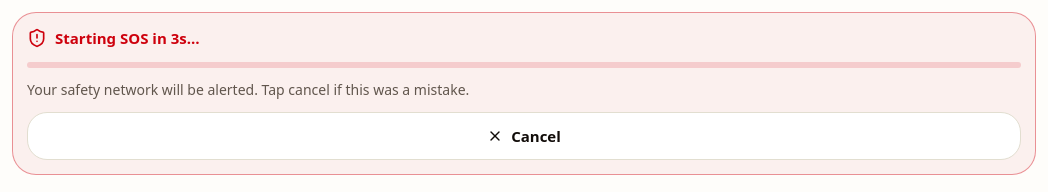
Test: autoStart begins the cancellable countdown by itself, once
expect the text "Starting SOS in 3s…" is shown: met, box [27,28,200,48]
Click the button "Cancel" at (524, 136), box [27,112,1021,160]
Wait 5000 ms
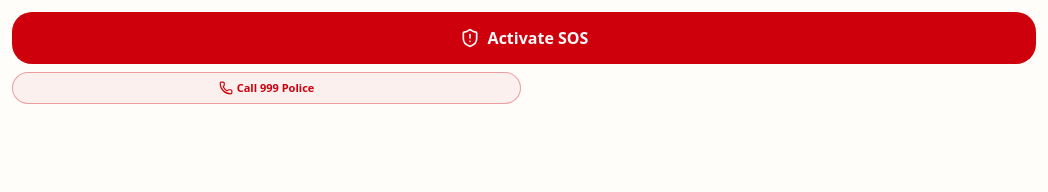
expect the text "Starting SOS in" is gone: met
expect the button "Activate SOS" is shown: met, box [12,12,1036,64]
